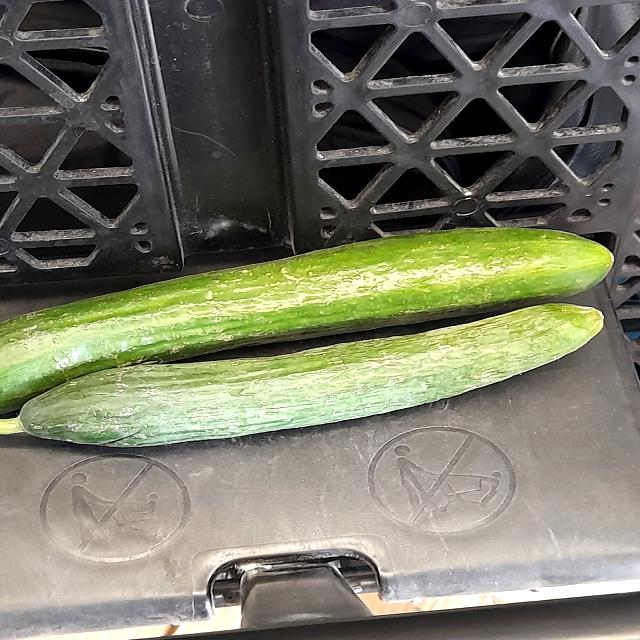cucumber: (0, 214, 630, 408), (0, 290, 617, 464)
